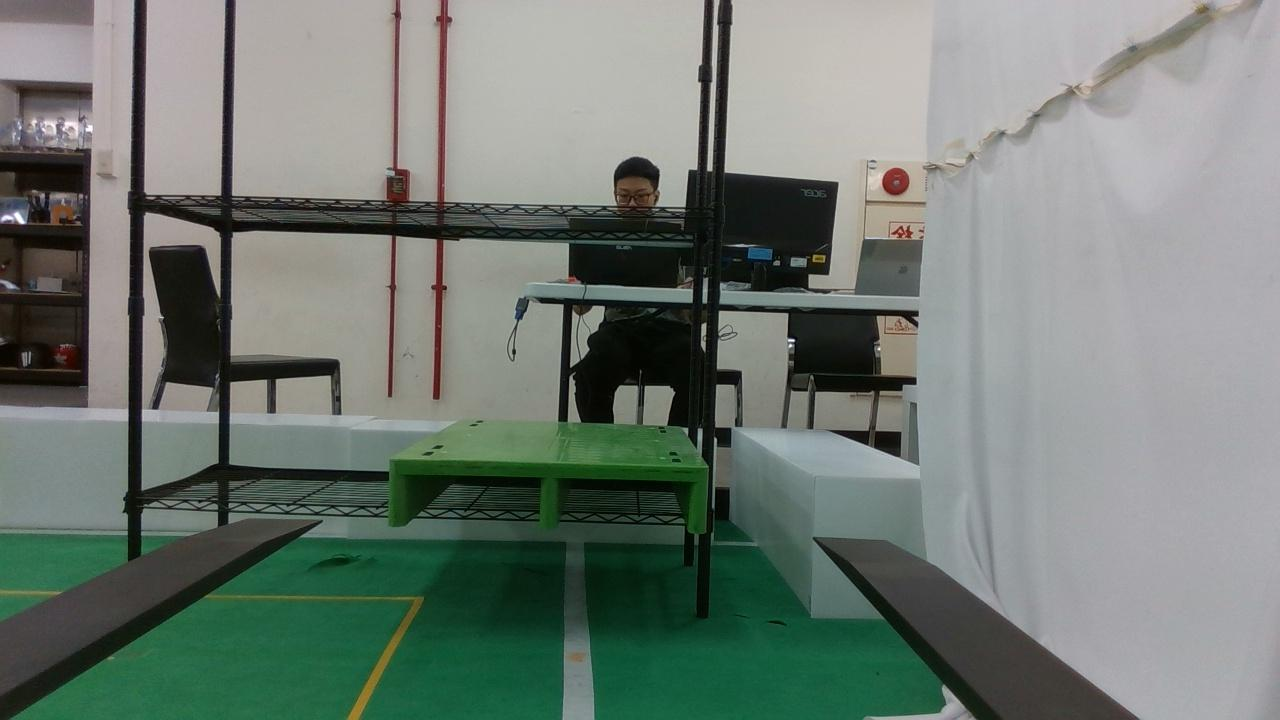Pallet: (386, 457, 713, 538)
